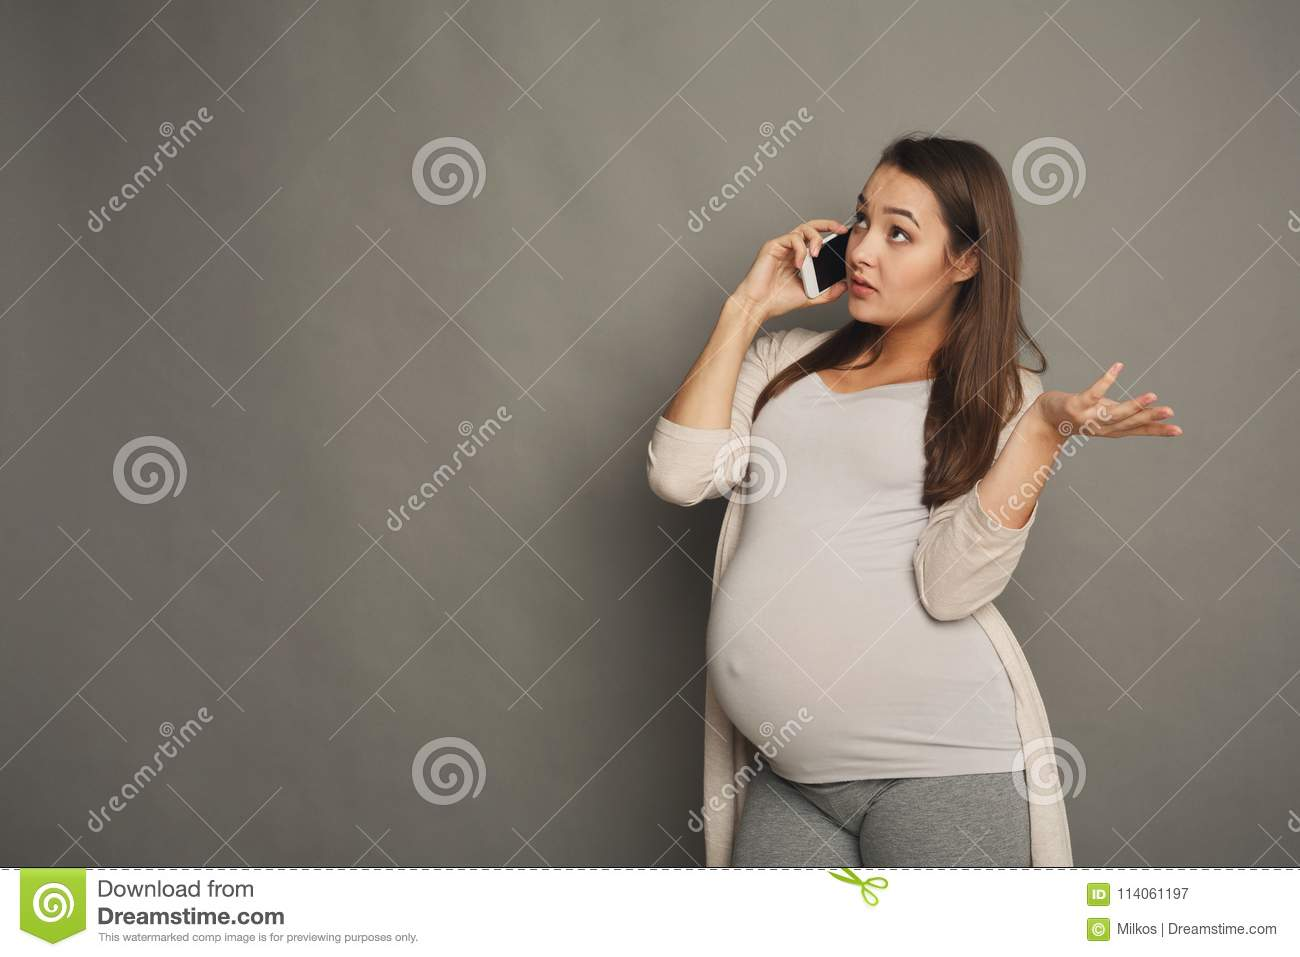phone: (792, 226, 855, 298)
talk: (717, 194, 927, 342)
